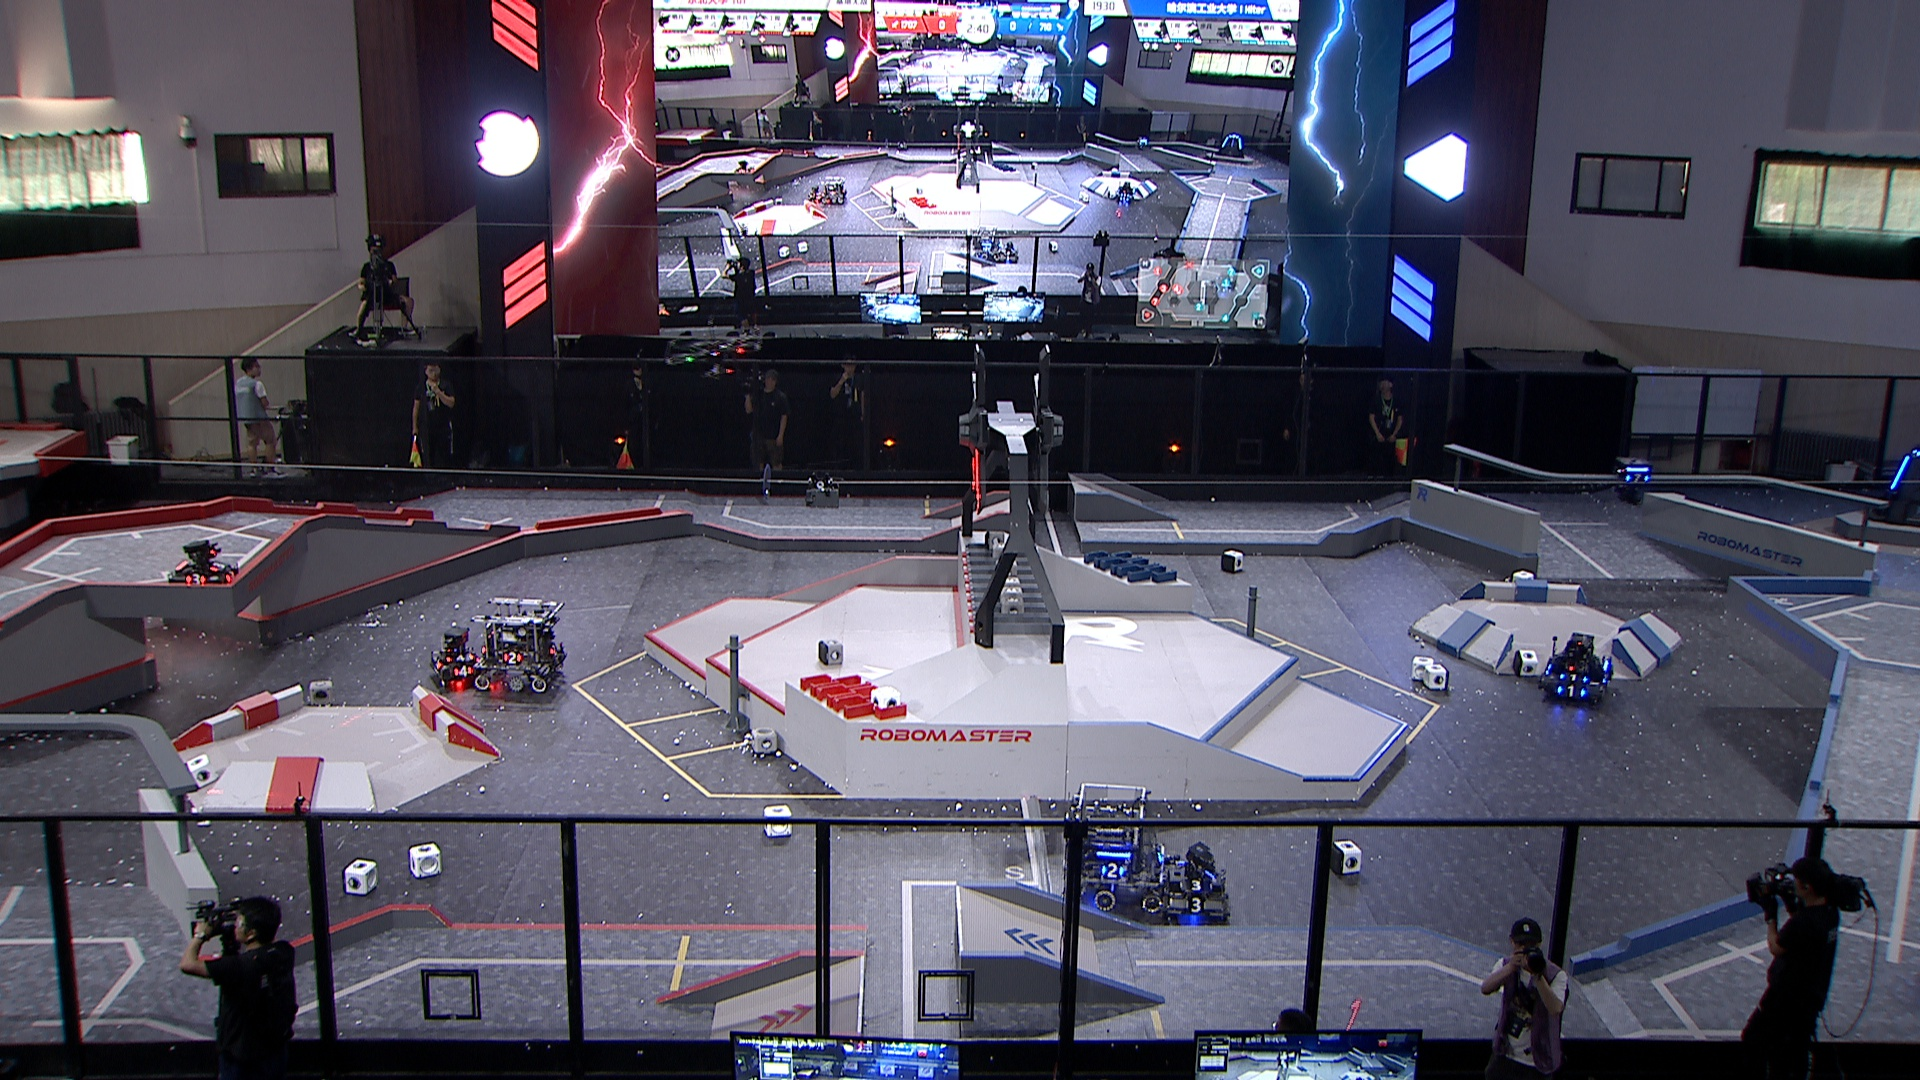armor: (1888, 454, 1912, 491), (1178, 878, 1211, 894), (1101, 862, 1127, 880), (1185, 898, 1211, 915), (1556, 684, 1588, 698), (1557, 673, 1590, 684), (1622, 472, 1651, 485), (183, 572, 210, 585), (444, 651, 475, 662), (224, 567, 243, 584), (502, 651, 524, 666), (454, 665, 473, 679), (210, 560, 225, 572), (549, 644, 560, 657)
base: (1866, 447, 1920, 531)
car: (1062, 781, 1171, 913), (471, 597, 567, 694), (1536, 632, 1610, 709), (1164, 843, 1232, 920), (167, 535, 243, 593), (429, 624, 484, 690)
ignore: (971, 229, 1001, 262), (1216, 133, 1247, 160), (822, 177, 847, 206), (997, 243, 1021, 264), (1117, 182, 1138, 204), (807, 183, 827, 204), (733, 161, 757, 175), (1135, 136, 1149, 149)
watcher: (1615, 456, 1654, 504)
